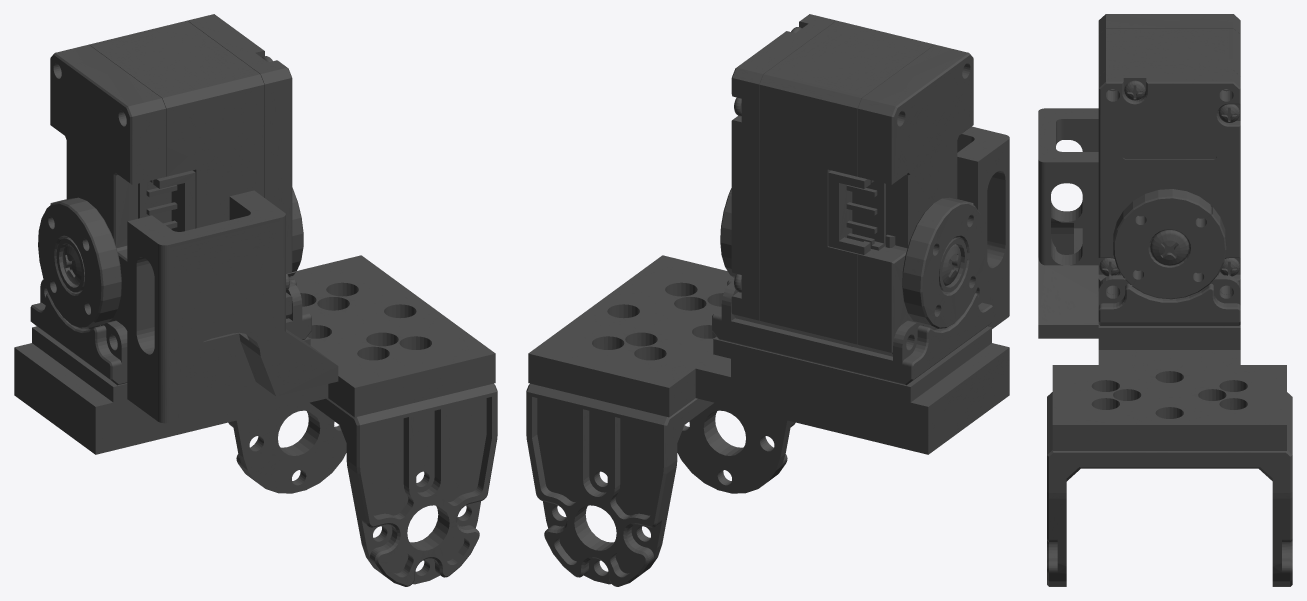
Rendered from mcp_joint.dae.
The picture shows the model from 3 angles, left to right: view 1: azimuth 30°, elevation 25°; view 2: azimuth 150°, elevation 25°; view 3: azimuth 270°, elevation 25°; orthographic projection. The views are drawn at different scales.
Visible parts, largest first — view 1: node; view 2: node; view 3: node.
Boxes of the visible parts, x1,y1,x2,y2 form: node: (14, 14, 497, 586); node: (526, 14, 1009, 586); node: (1038, 14, 1292, 586).
Bounding box in the file's own units: 0.053 × 0.0705 × 0.0358.
Materials: 1 (1 with a texture image).
